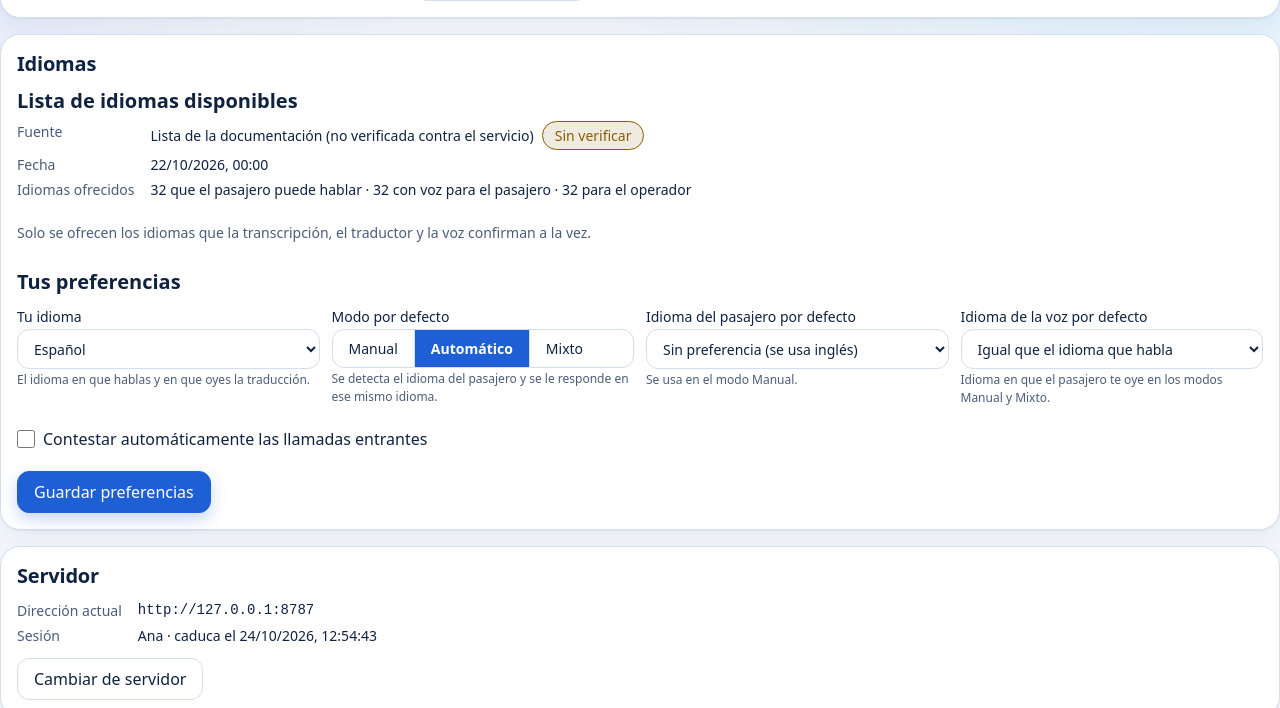
Test case: languages and preferences › shows the catalogue source and date and saves the preferences
(page scrolled)
Expected: the element with test id "catalog-info" shows "Lista de la documentación (no verificada contra el servicio)", [150,126,534,145]
Expected: the element with test id "catalog-info" shows "Sin verificar", [555,126,632,145]
Click the radio button labelled "Manual" at x=374, y=348, box [332,330,415,367]
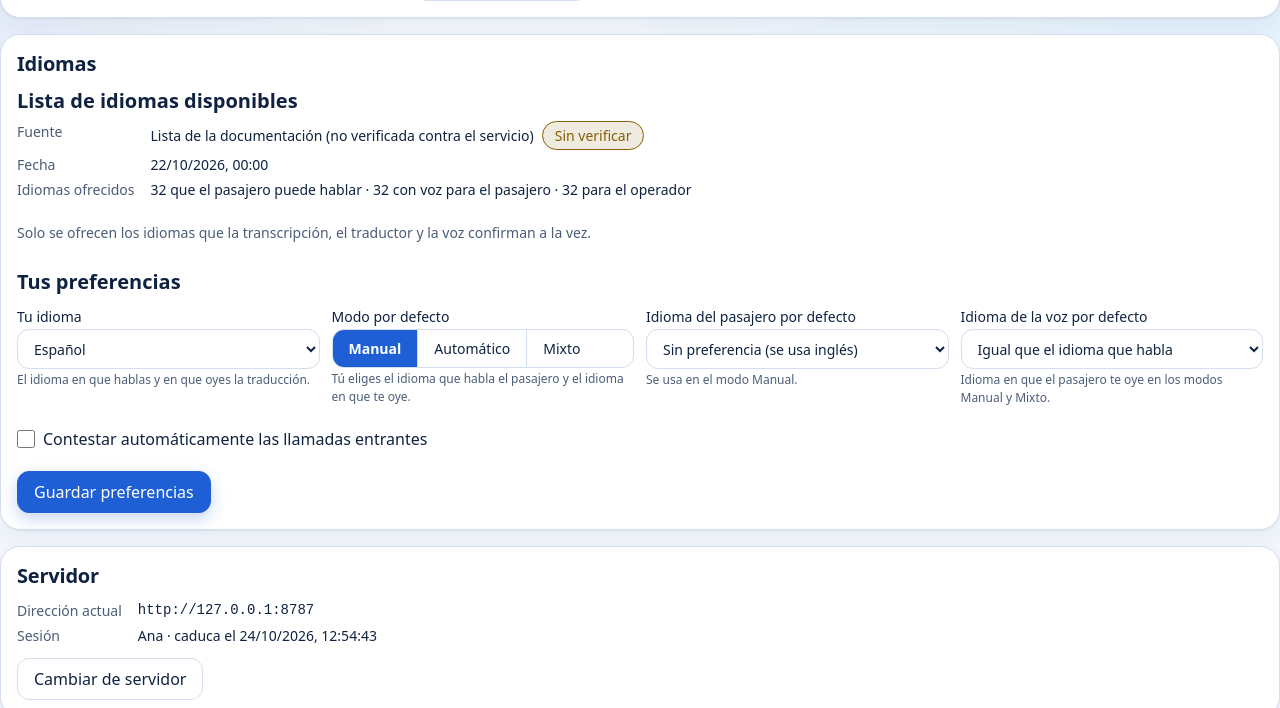
Select "Francés" in the dropdown labelled "Idioma del pasajero por defecto" at x=797, y=349, box [646,329,948,369]
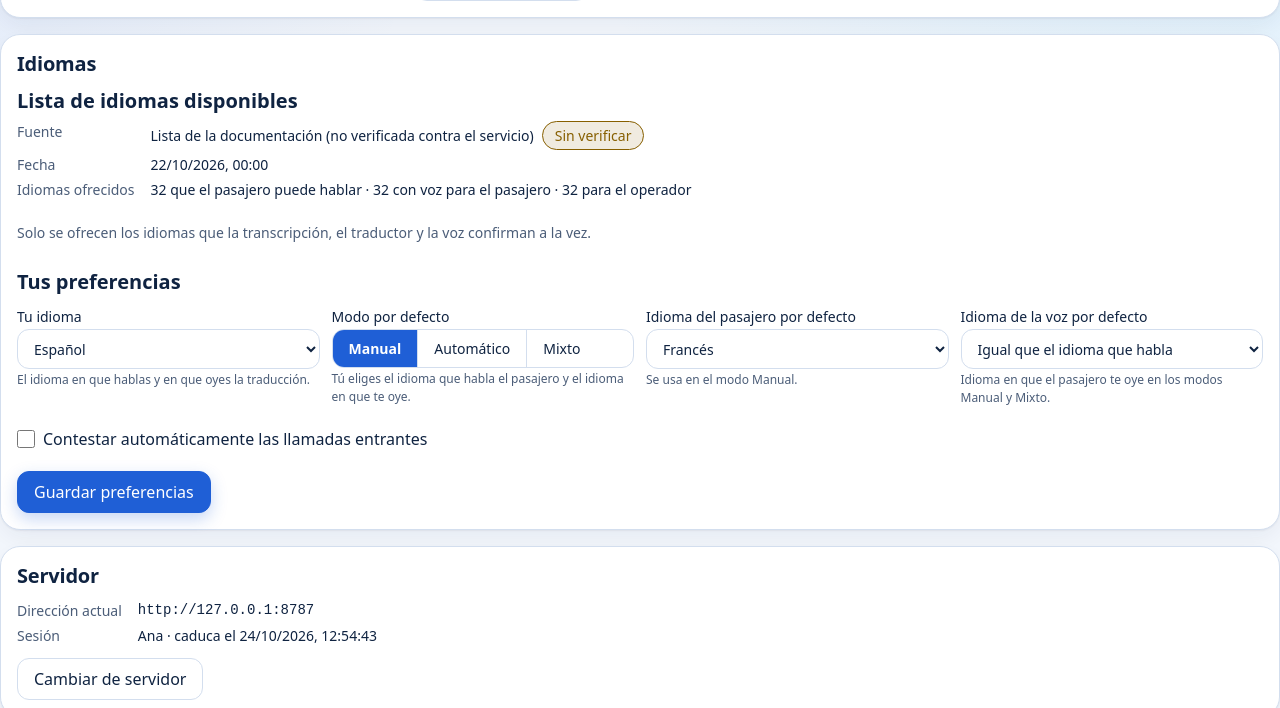
Click the checkbox labelled "Contestar automáticamente las llamadas entrantes" at x=26, y=439, box [17,419,35,459]
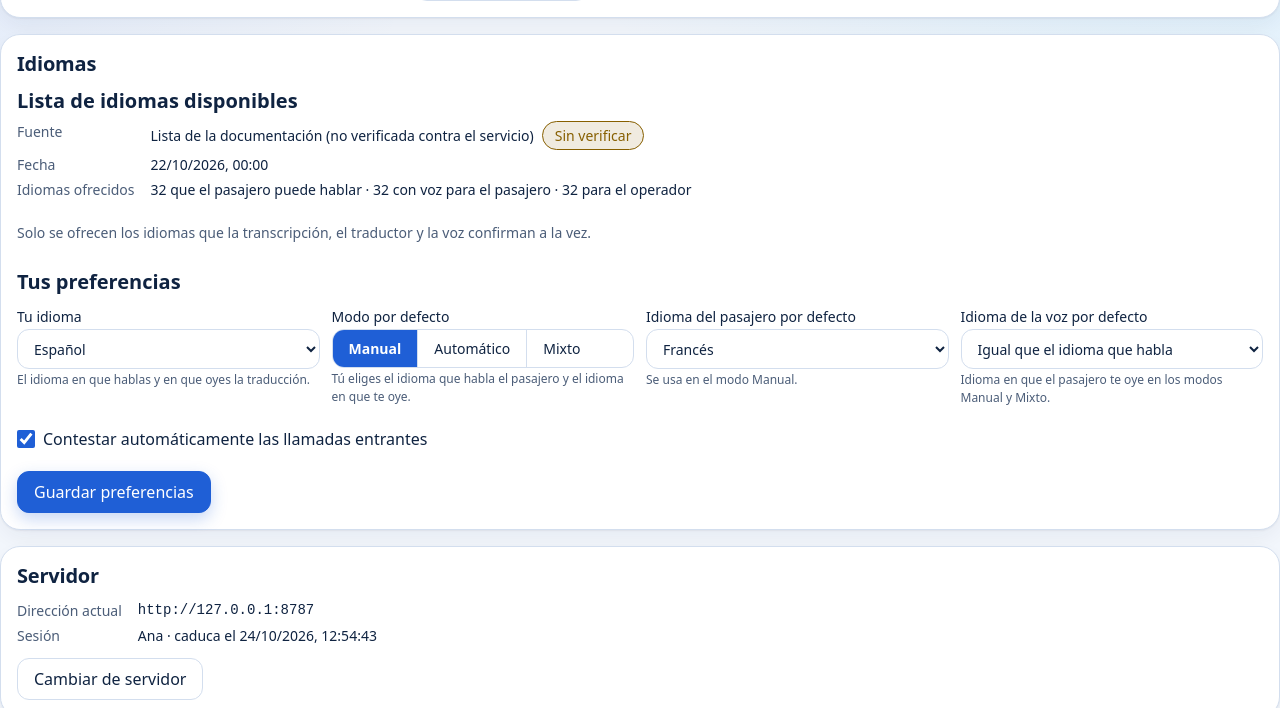
Click the button "Guardar preferencias" at x=114, y=492, box [17,471,211,513]
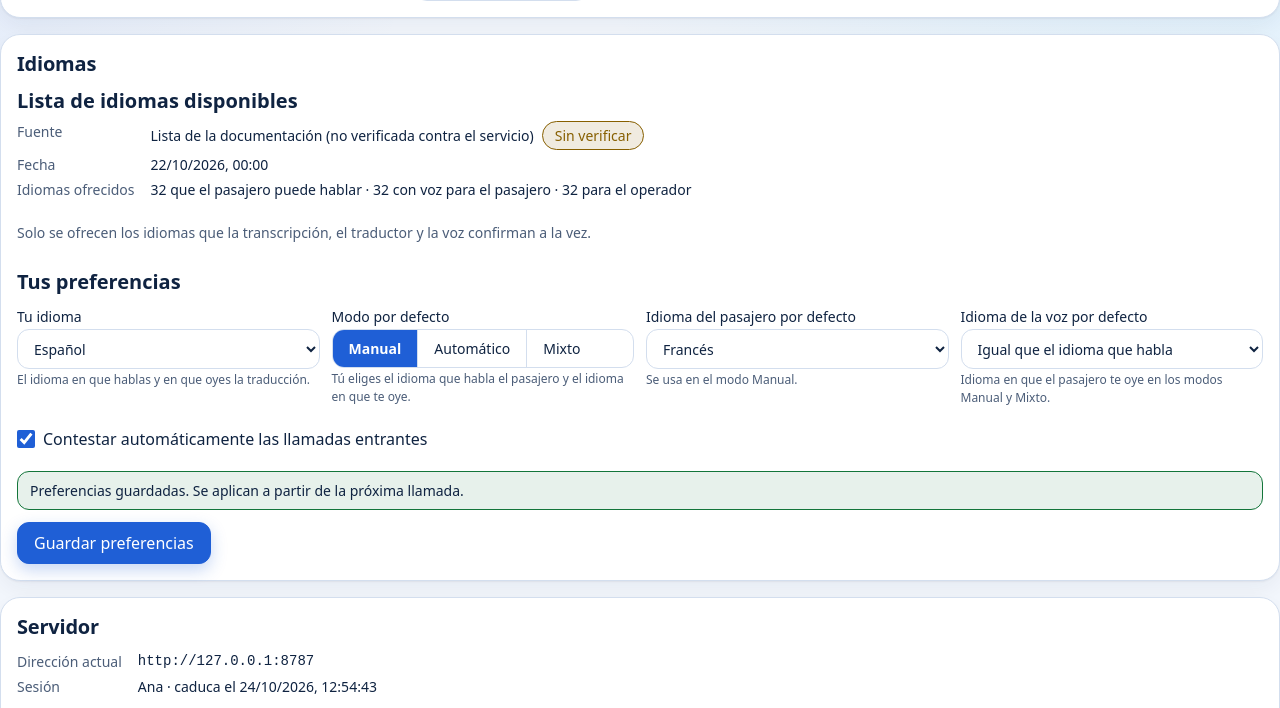
Expected: the message with test id "preferences-message" shows "Preferencias guardadas", [30,481,464,500]
